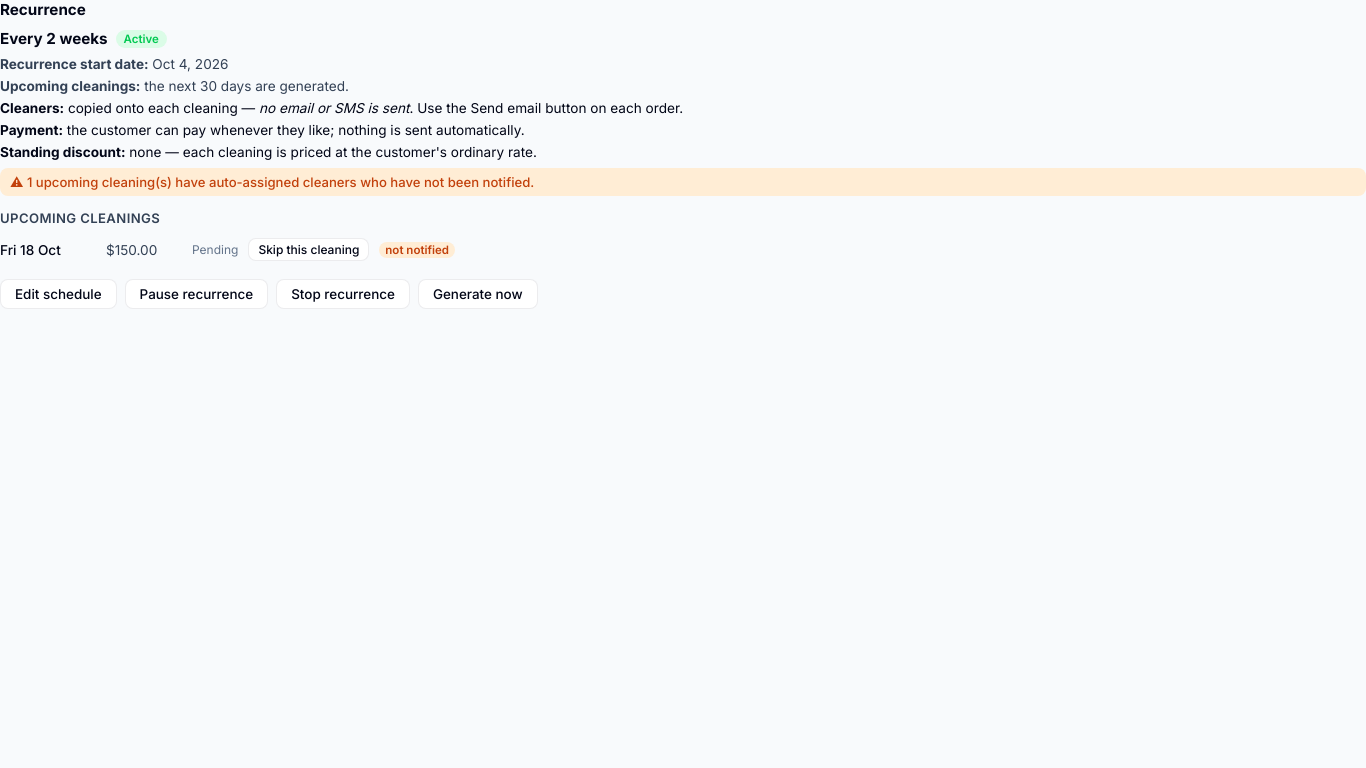
Test case: RecurringSeriesPanelComponent › an Admin who may not delete orders gets no checkboxes and stops without deleting
This screenshot has width=1366, height=768.
Click the button "Stop recurrence" at (343, 294), box [276,279,410,309]
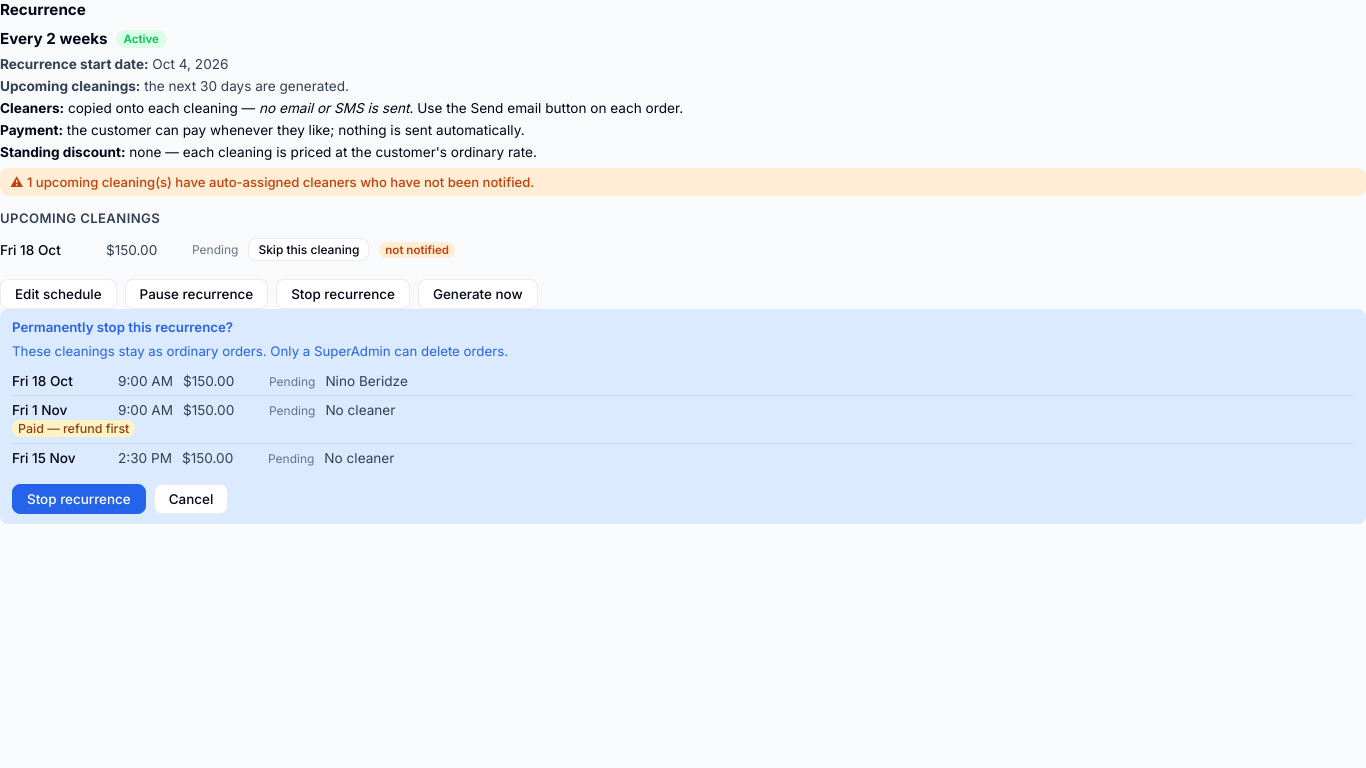
Result: the text "Only a SuperAdmin can delete orders" is shown at [12,343,508,359]
